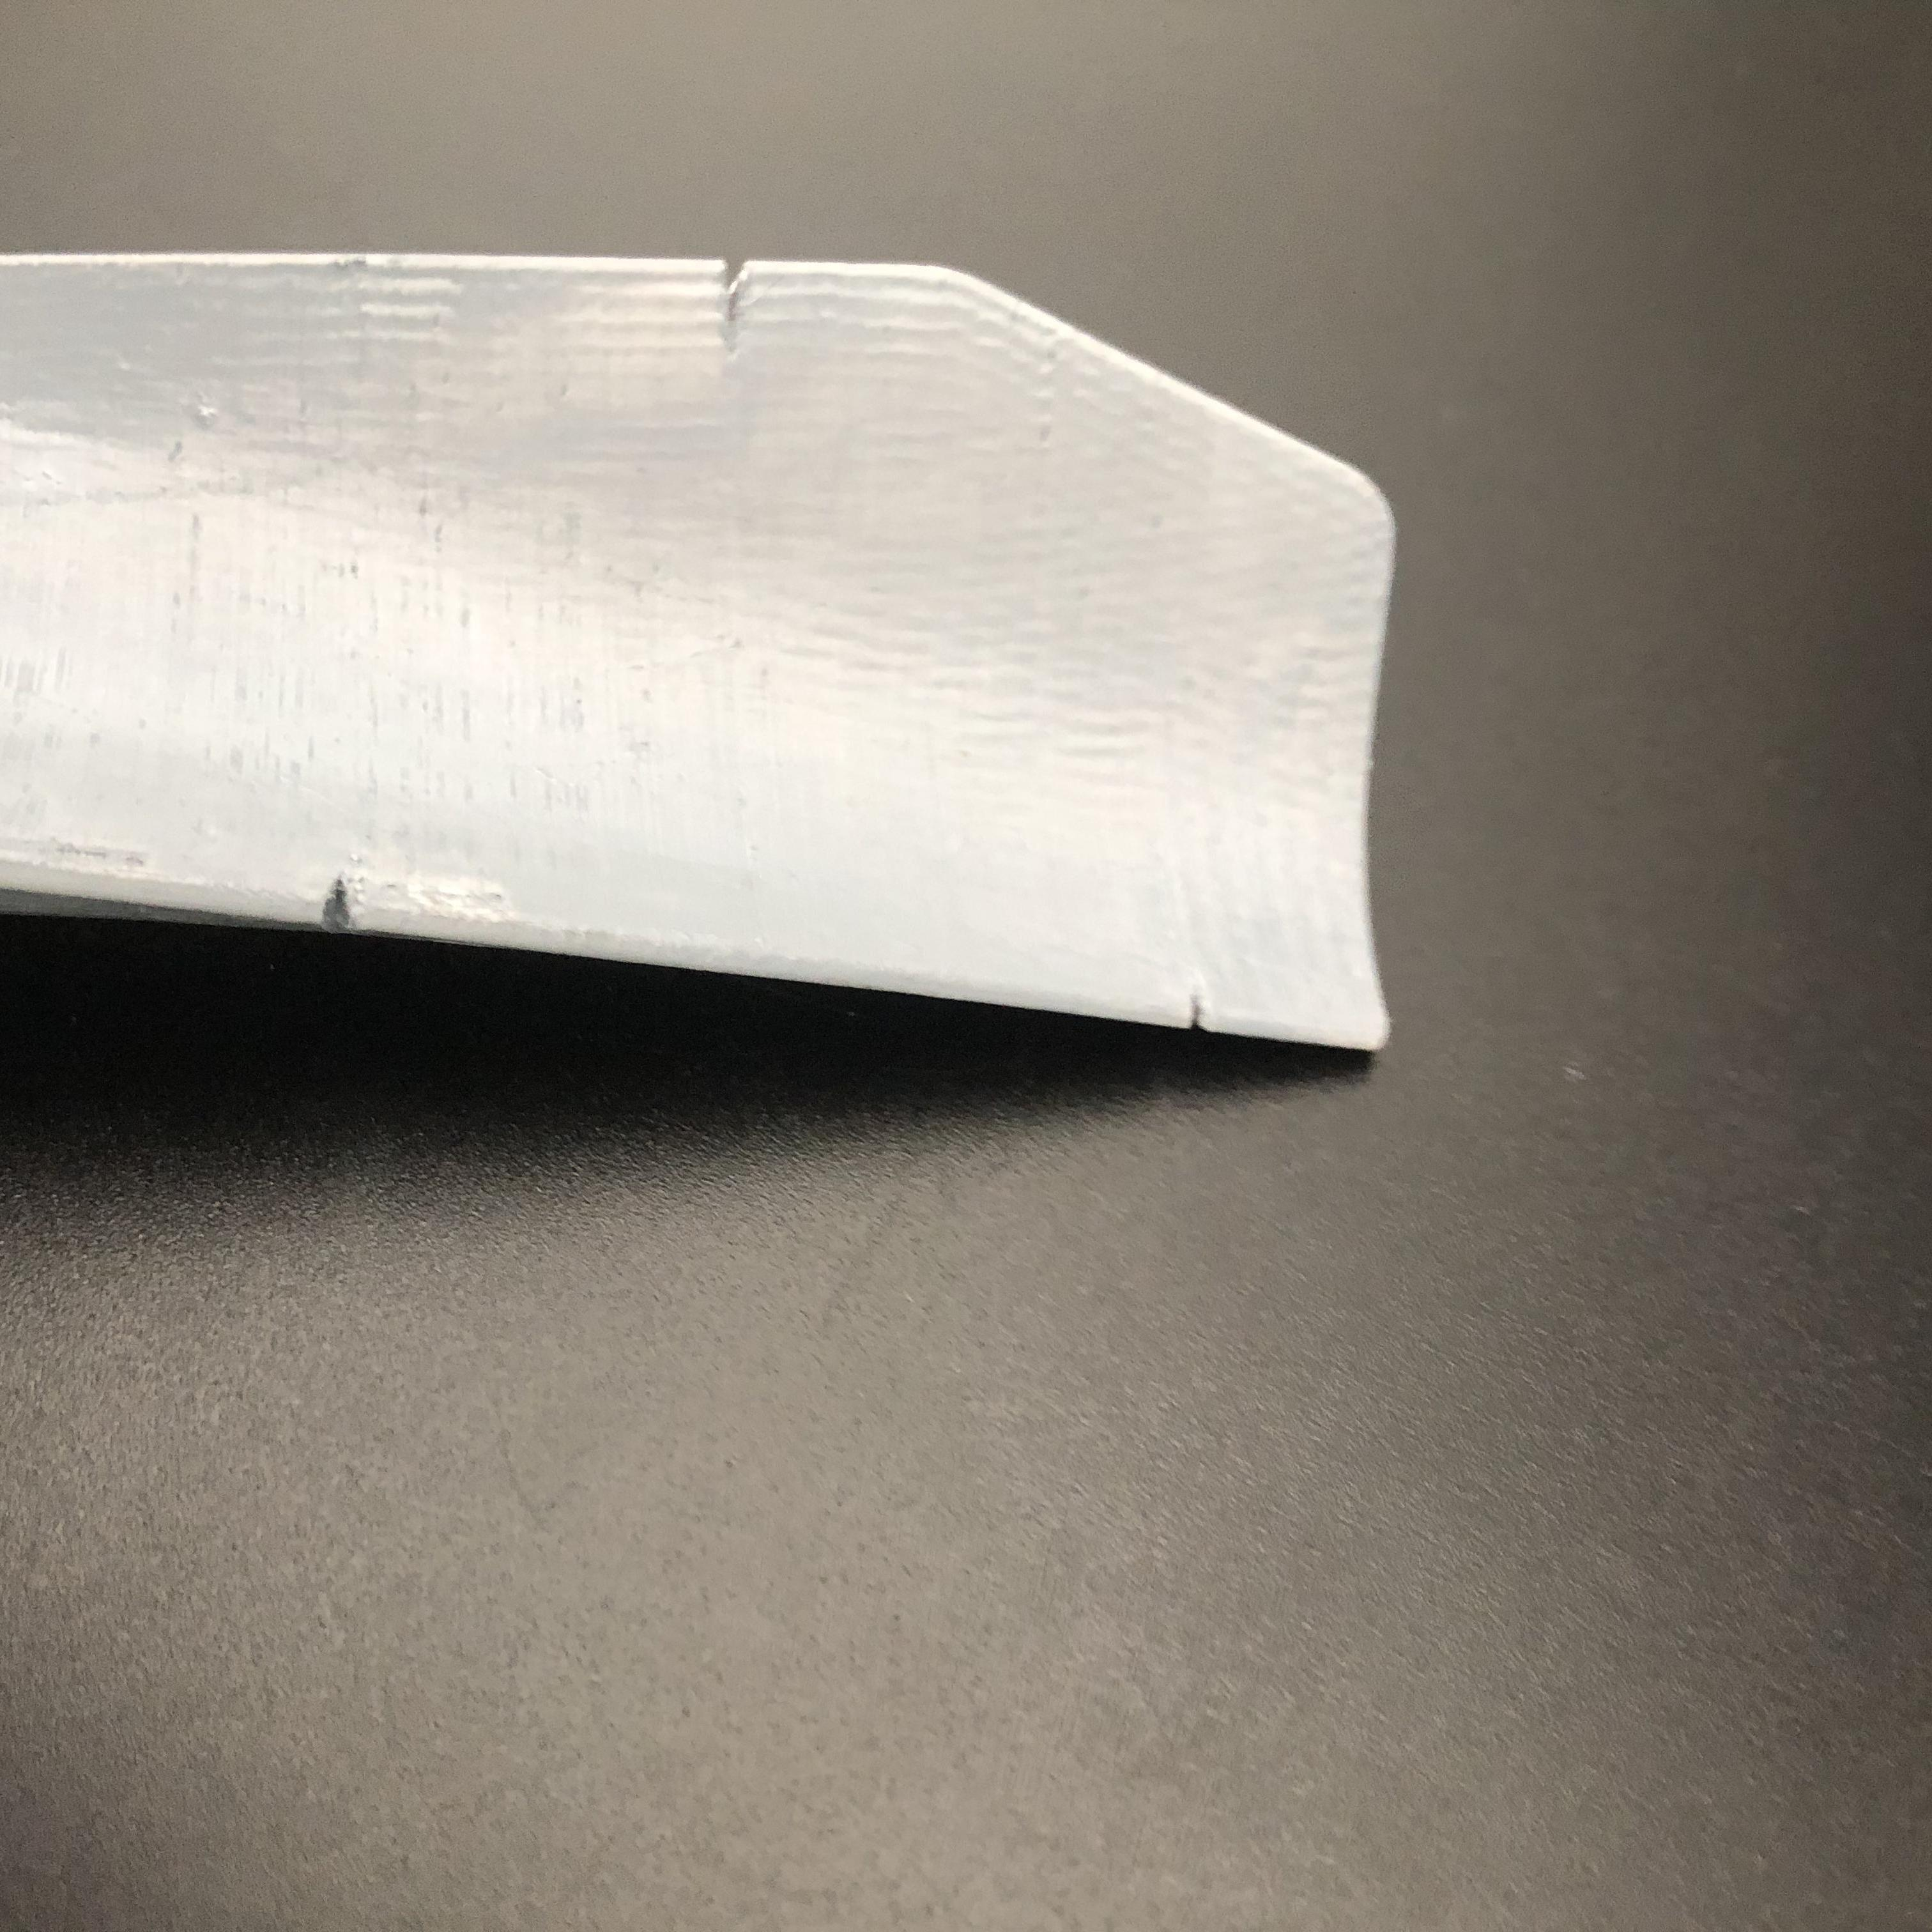groove: (708, 269, 766, 357), (311, 872, 359, 927), (1173, 994, 1217, 1031)
